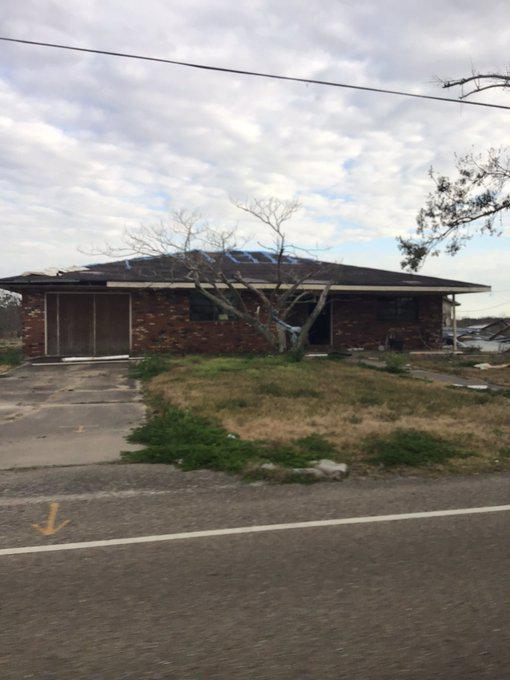minor: (9, 234, 487, 354)
